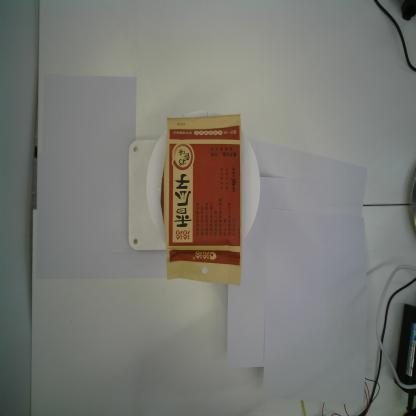Dried Food: (160, 112, 244, 288)
